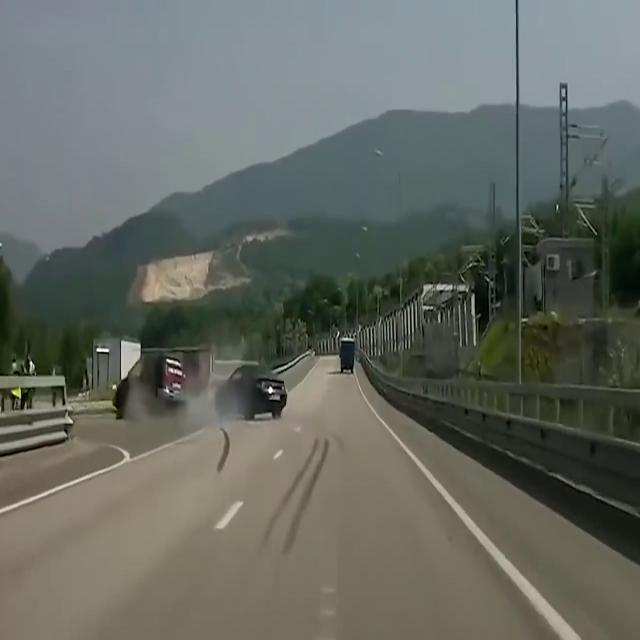multiple_accident: (110, 347, 313, 437)
